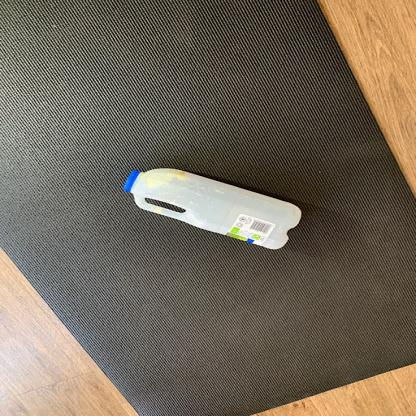trash: (123, 165, 302, 252)
